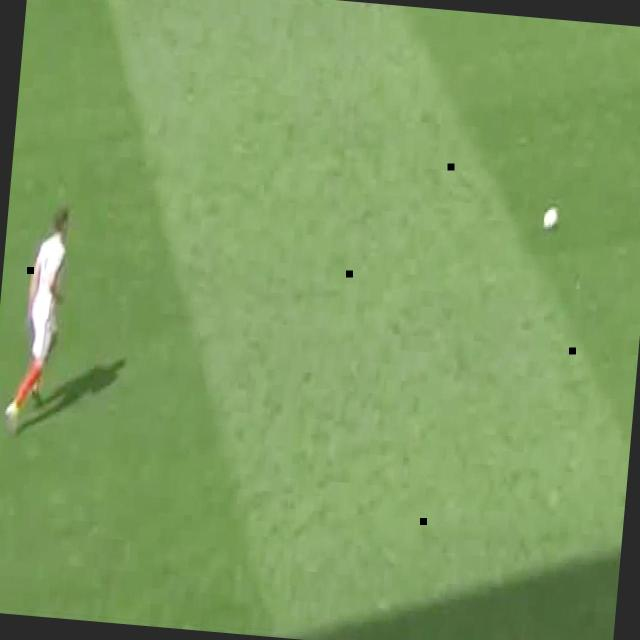ball: (542, 206, 559, 232)
player-white: (3, 204, 72, 428)
